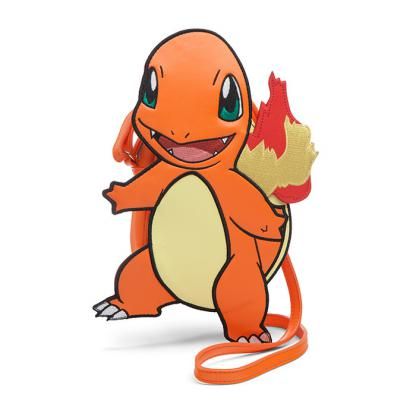Charmander: (74, 1, 331, 404)
